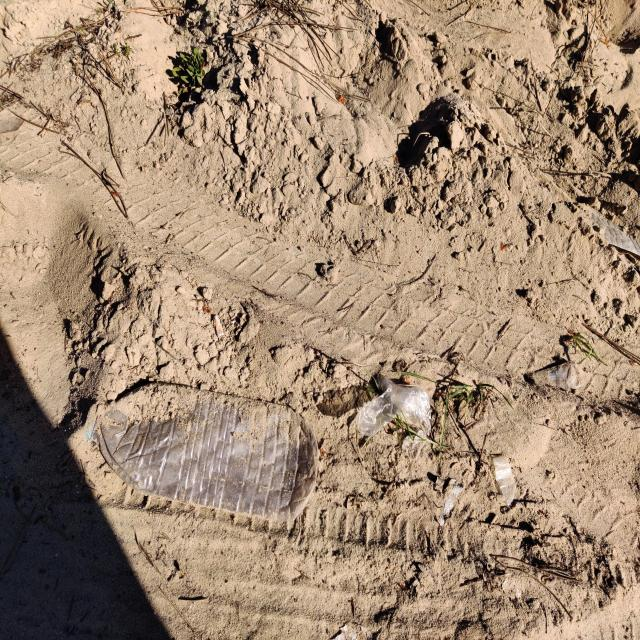litter: (84, 371, 323, 525), (340, 372, 436, 461)
